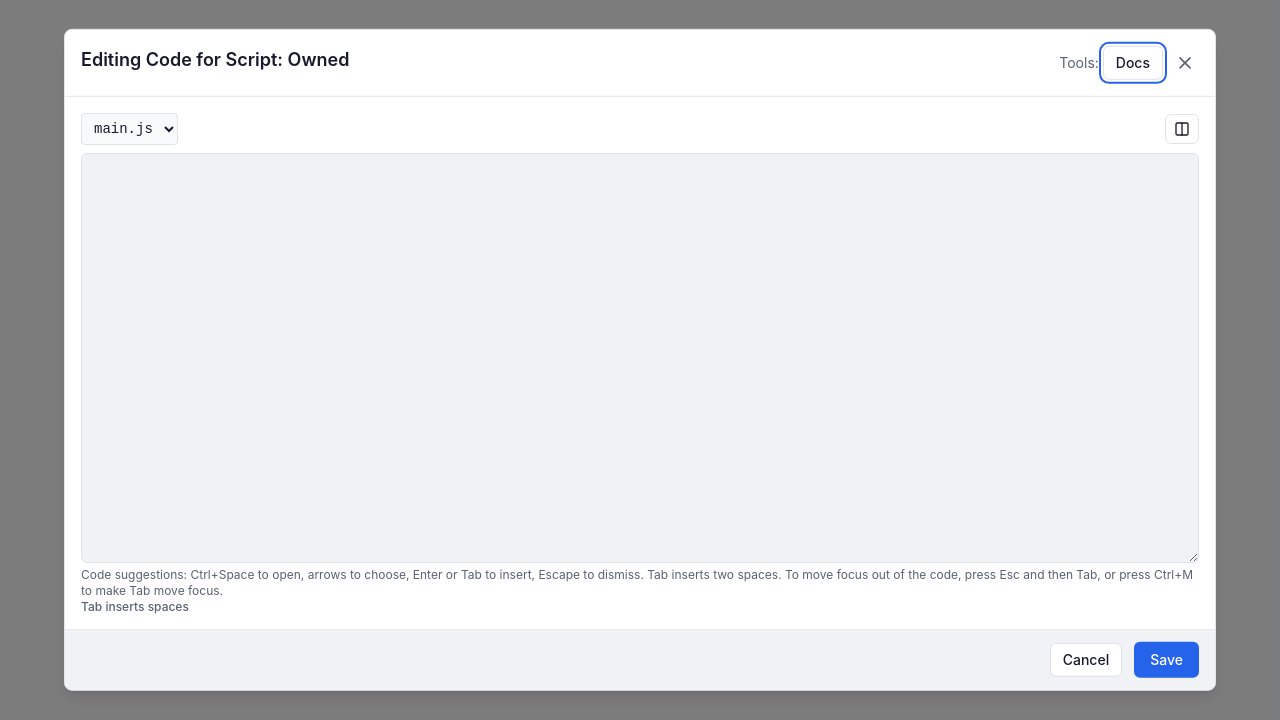
Scenario: ScriptEditorDialog › dismisses suggestions with Escape and allows Tab to leave the code
Type "logger." into the text box named "main.js".
click(640, 358); type("logger.")  # box [82,154,1198,562]
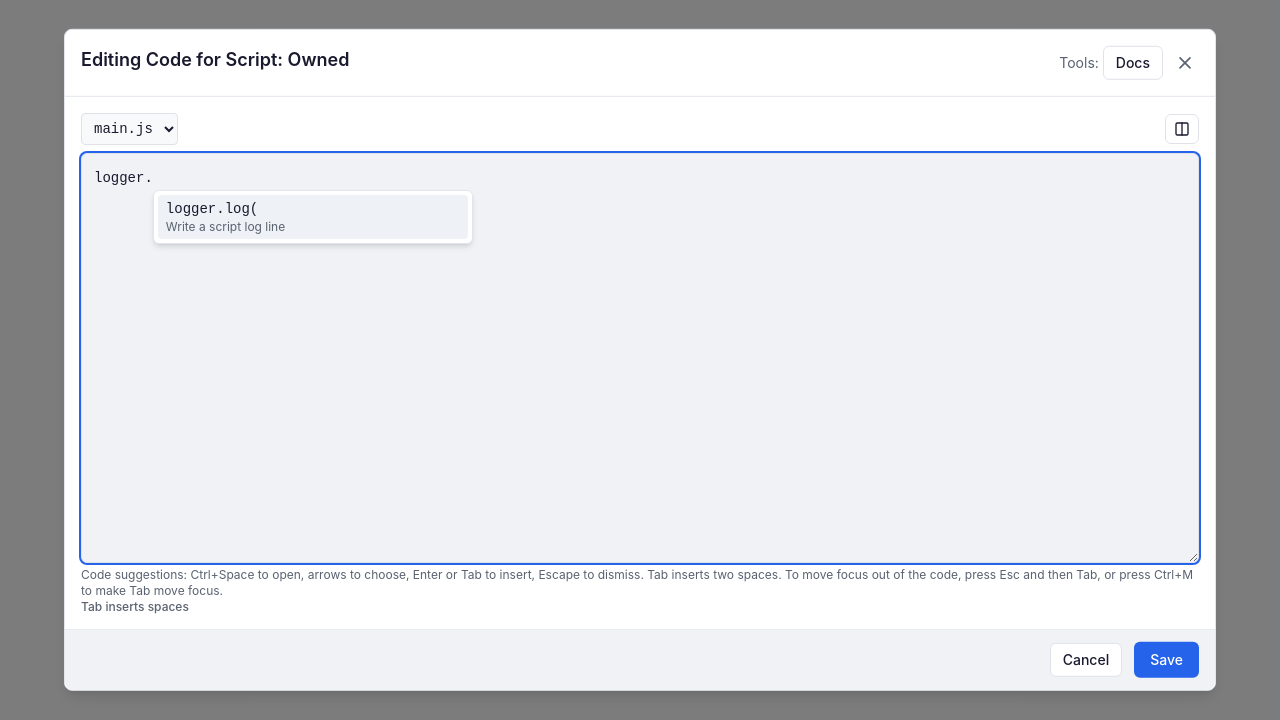
expect the option "logger.log( Write a script log line" is shown: met, box [158,195,468,239]
Press Escape Tab
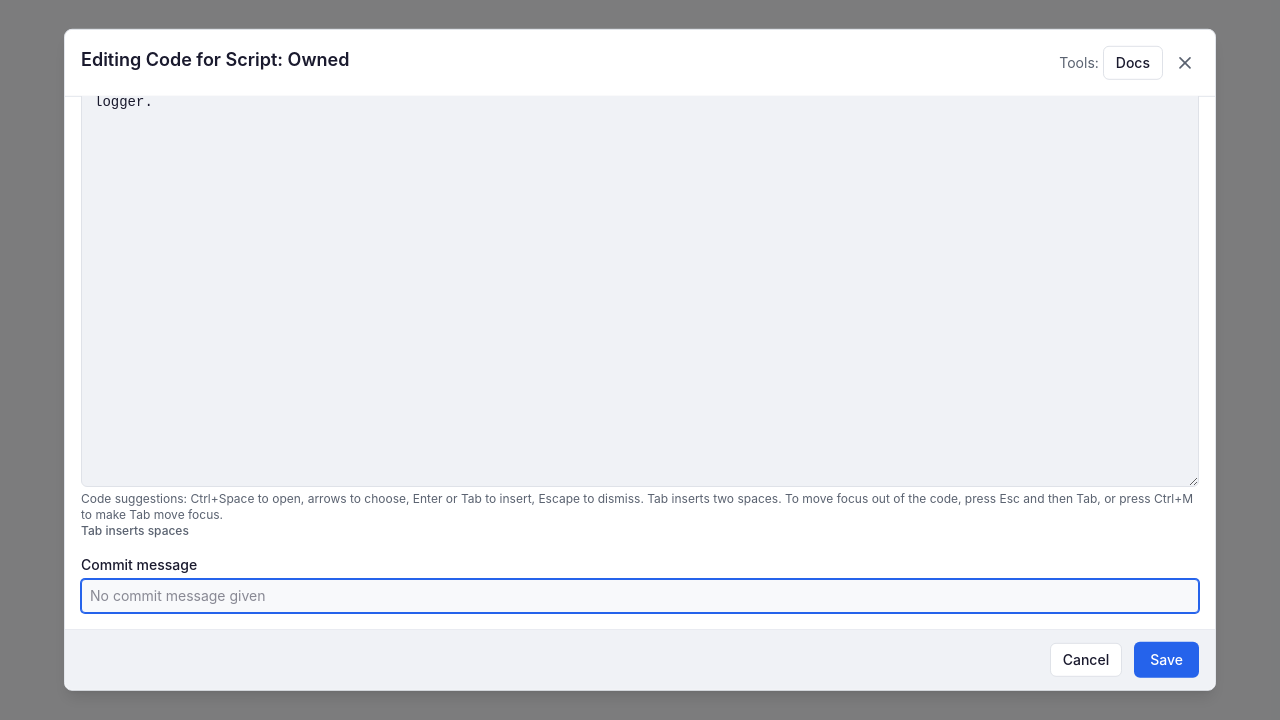
expect the list is gone: met
